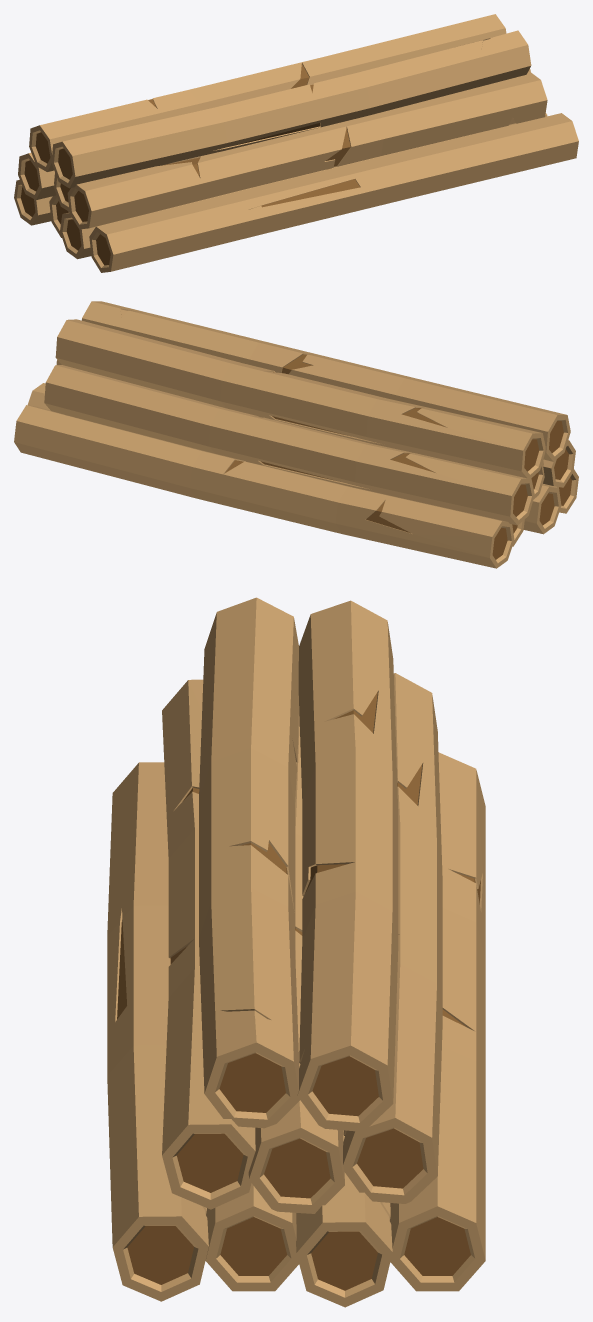
Rendered from props_85.gltf.
3 views of the same model, one above another, from view 1: azimuth 30°, elevation 25°; view 2: azimuth 150°, elevation 25°; view 3: azimuth 270°, elevation 25° (orthographic). The views are drawn at different scales.
Visible parts, largest first — view 1: props_85; view 2: props_85; view 3: props_85.
Boxes of the visible parts, left/top/right/bottom form: props_85: left=14, top=14, right=578, bottom=272; props_85: left=14, top=301, right=578, bottom=568; props_85: left=107, top=597, right=485, bottom=1307.
Size of the model in its own units: 3.18 by 0.741 by 1.07.
1 material, 1 textured.
